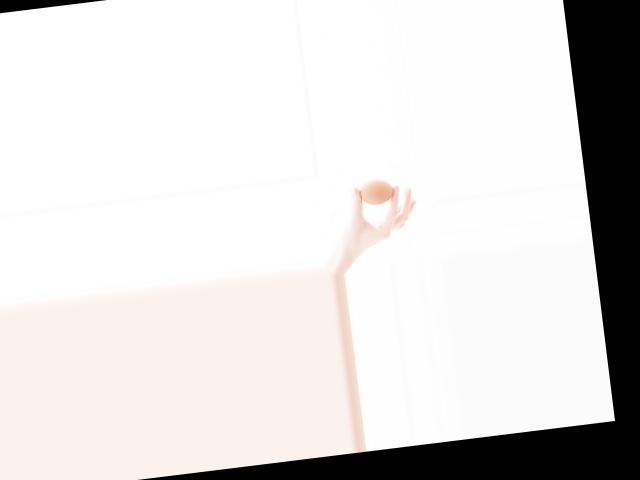egg: (358, 177, 395, 205)
